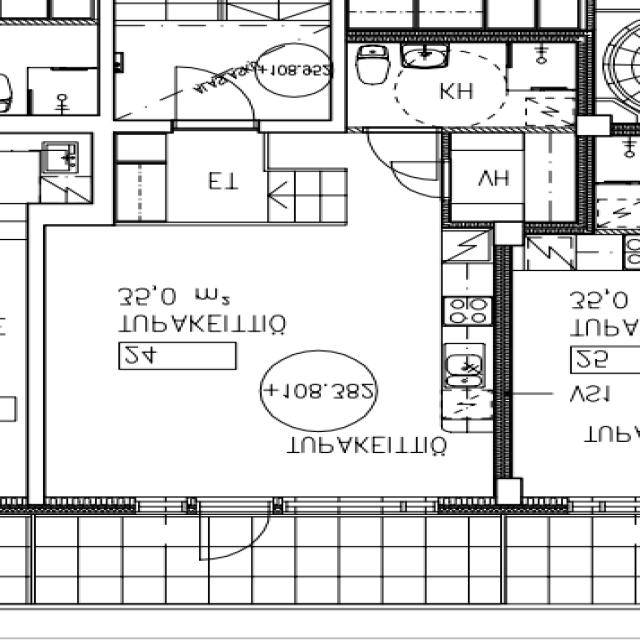door: (163, 56, 259, 135), (189, 491, 281, 563), (356, 125, 450, 183)
window: (262, 488, 452, 524), (542, 492, 640, 520)
